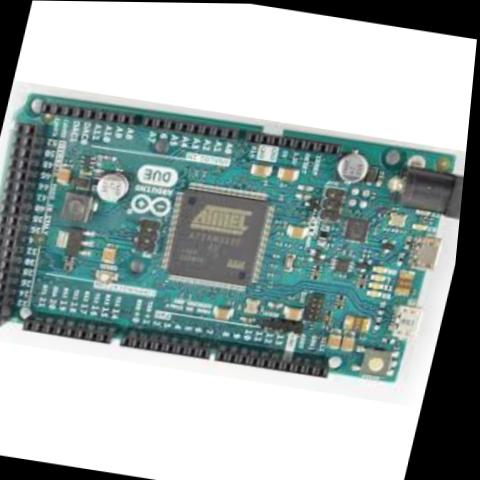Arduino-Due: (0, 80, 474, 402)
